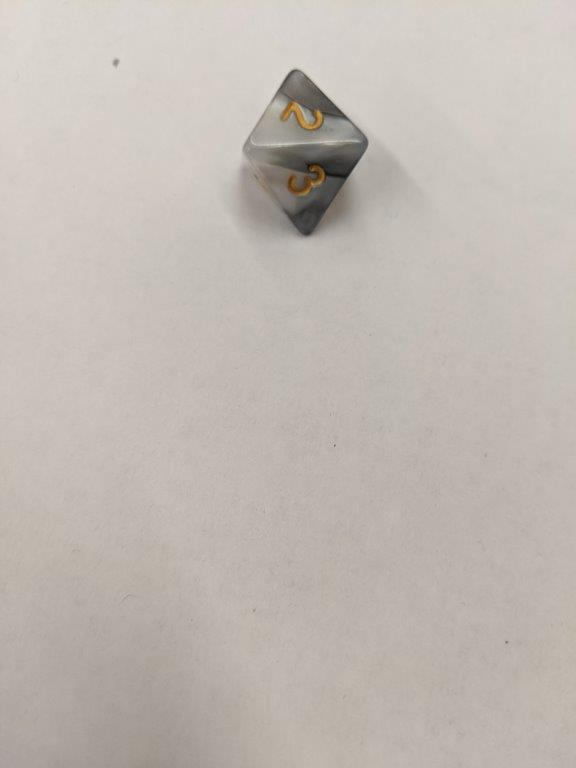d8-2: (243, 67, 368, 235)
